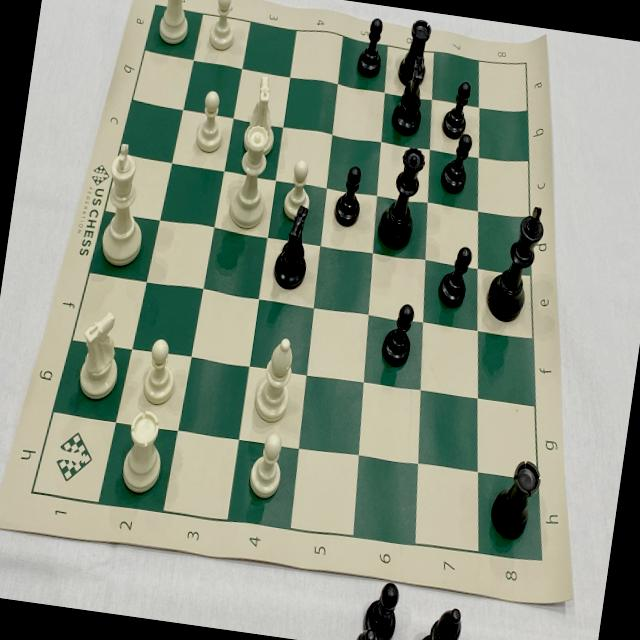black-king: (484, 195, 549, 328)
black-knight: (266, 200, 322, 296), (389, 52, 428, 138)
black-pawn: (433, 240, 477, 314), (379, 298, 418, 372), (352, 10, 391, 81), (330, 163, 369, 232), (438, 128, 476, 198), (437, 76, 474, 140)
black-queen: (373, 140, 430, 260)
black-rook: (485, 448, 544, 546), (396, 16, 436, 94)
white-bishop: (247, 332, 302, 428)
white-king: (91, 138, 159, 272)
white-knight: (66, 302, 132, 407), (239, 70, 286, 160)
white-pawn: (240, 425, 290, 508), (188, 86, 236, 159), (139, 334, 182, 409), (278, 149, 319, 223), (202, 0, 244, 56)
white-queen: (226, 122, 282, 236)
white-rook: (114, 404, 172, 498), (151, 0, 198, 49)
